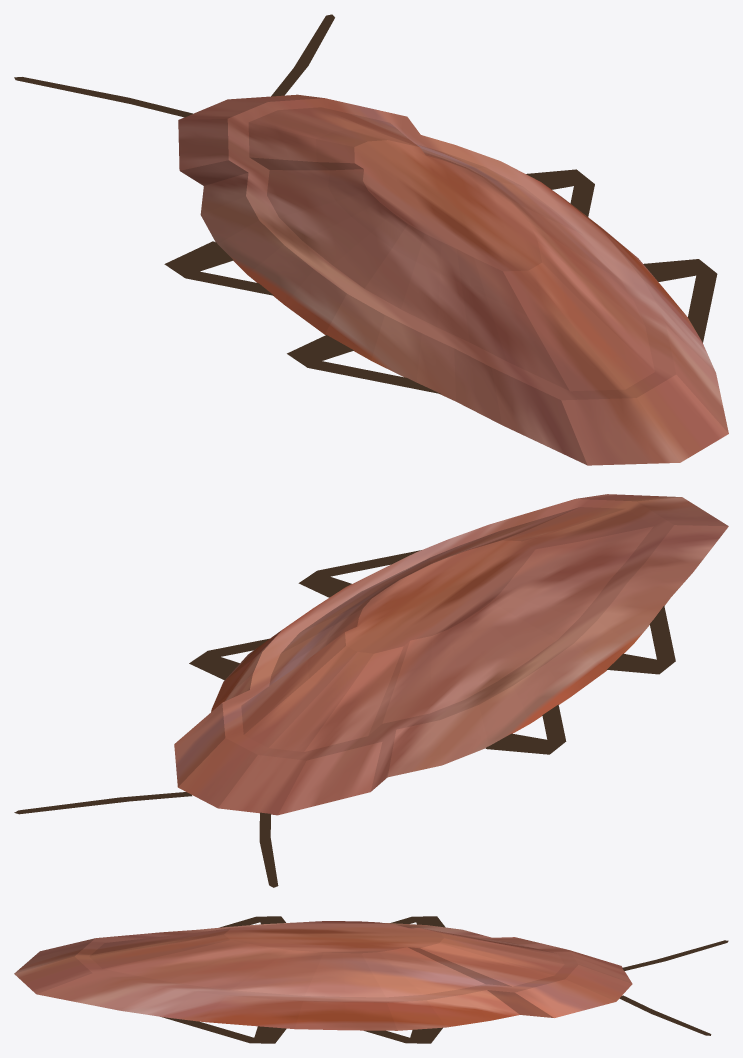
The model's file is cockroach.fbx.
3 views of the same model, one above another, from view 1: azimuth 30°, elevation 25°; view 2: azimuth 150°, elevation 25°; view 3: azimuth 270°, elevation 25° (orthographic). The views are drawn at different scales.
Visible parts, largest first — view 1: Circle, Circle.002, Circle.001, Circle.003, Circle.005; view 2: Circle, Circle.002, Circle.001, Circle.005, Circle.003; view 3: Circle, Circle.001, Circle.002, Circle.003, Circle.005.
Boxes of the visible parts, x1,y1,x2,y2 form: Circle: (178, 94, 728, 465); Circle.002: (164, 241, 441, 394); Circle.001: (526, 169, 717, 342); Circle.003: (14, 77, 193, 117); Circle.005: (271, 14, 334, 96); Circle: (174, 494, 728, 815); Circle.002: (486, 605, 675, 754); Circle.001: (189, 550, 421, 680); Circle.005: (14, 792, 191, 814); Circle.003: (259, 812, 278, 887); Circle: (14, 921, 632, 1030); Circle.001: (160, 1016, 442, 1043); Circle.002: (220, 916, 445, 927); Circle.003: (622, 940, 728, 970); Circle.005: (619, 995, 711, 1035).
Bounding box in the file's own units: 0.3116 × 0.0504 × 0.7432.
